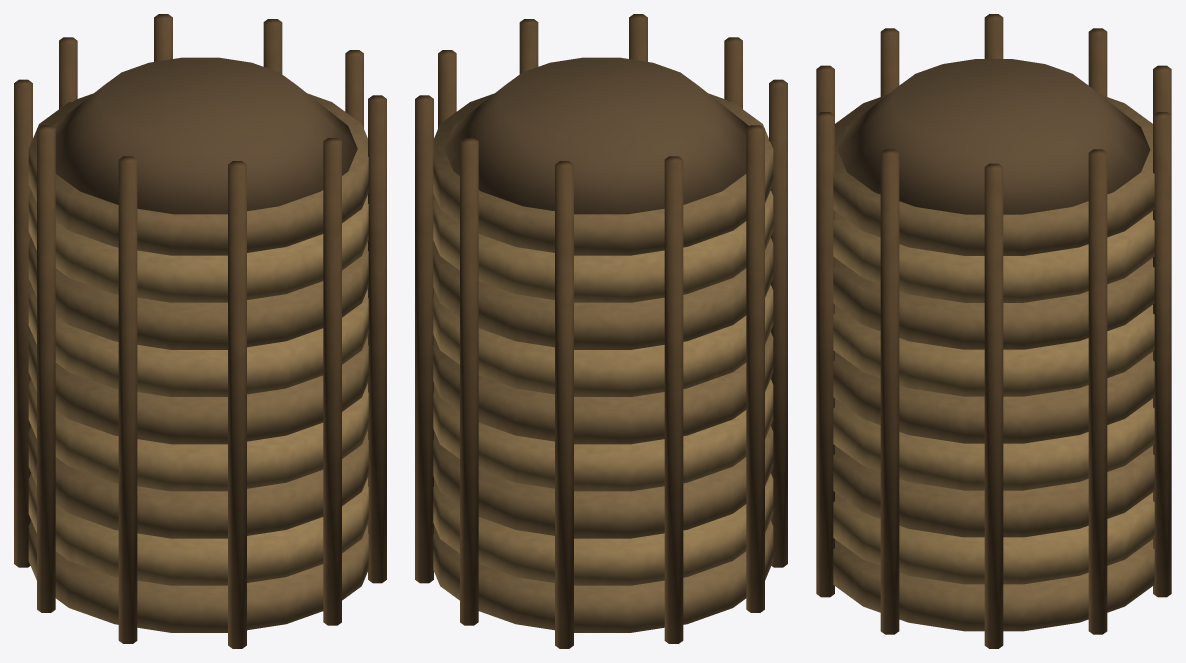
The model's file is gabion.glb.
The picture shows the model from 3 angles, left to right: view 1: azimuth 30°, elevation 25°; view 2: azimuth 150°, elevation 25°; view 3: azimuth 270°, elevation 25°; orthographic projection.
Parts seen in each view (by area): view 1: gabion; view 2: gabion; view 3: gabion.
Boxes of the visible parts, <box> form: gabion: <box>14,14,386,648</box>; gabion: <box>415,14,787,648</box>; gabion: <box>816,14,1171,648</box>.
Size of the model in its own units: 0.7152 by 1.02 by 0.6865.
Materials: 1 (1 with a texture image).
